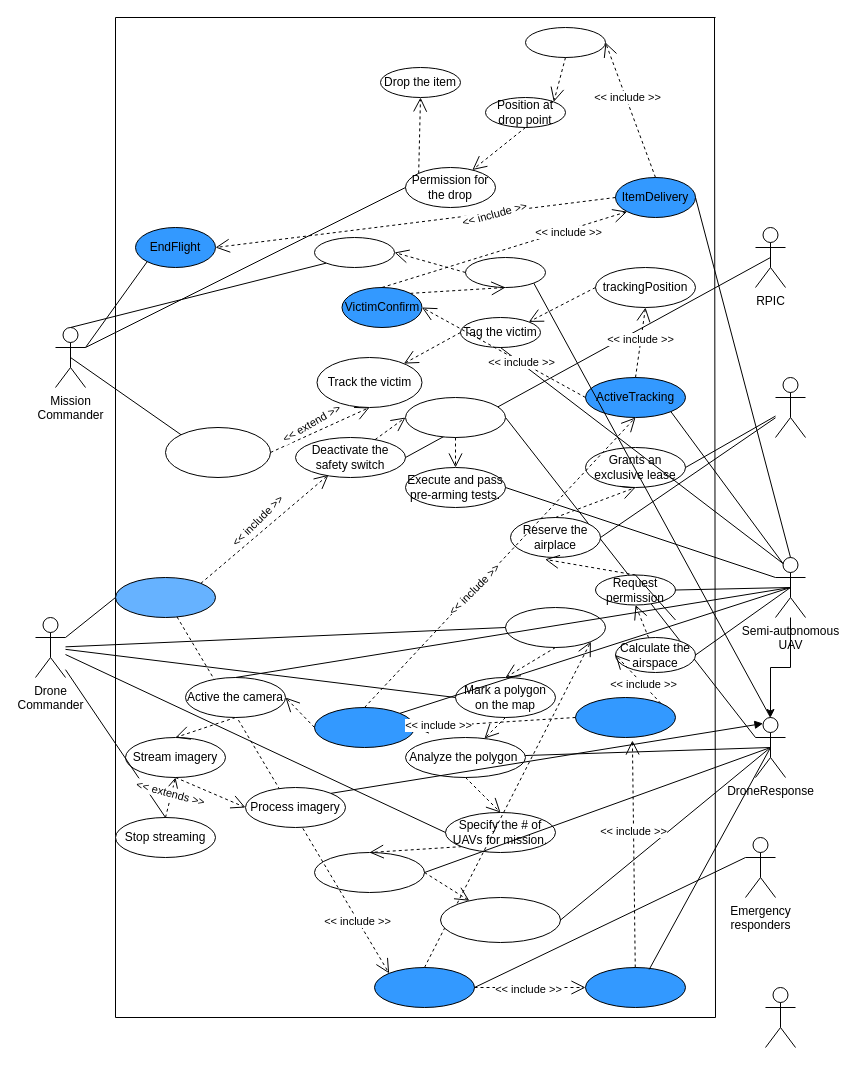
Some shapes in this 856 by 1086 pixel diagram are drawn without their labels. Here are the shapes that lost their labels. From the top down, the box of each, then its label:
(524, 26, 606, 58): Stream video
(314, 236, 394, 268): Confirm the victim
(464, 256, 546, 288): Raise the alert
(404, 396, 506, 438): Issue an arming command
(774, 376, 806, 438): ATC
(164, 426, 270, 478): Stop tracking
(114, 576, 216, 618): ActivateAndArm
(504, 606, 606, 648): Select a feature on the map
(314, 706, 414, 748): ImageCapture
(574, 696, 676, 738): LeaseAirspace
(314, 852, 424, 892): Generate set of N flight routes
(440, 896, 560, 942): Assign the flight routes to N available UAVs
(374, 966, 474, 1008): AreaCoverage
(584, 966, 686, 1008): Start the flight
(764, 986, 796, 1048): Technicians
